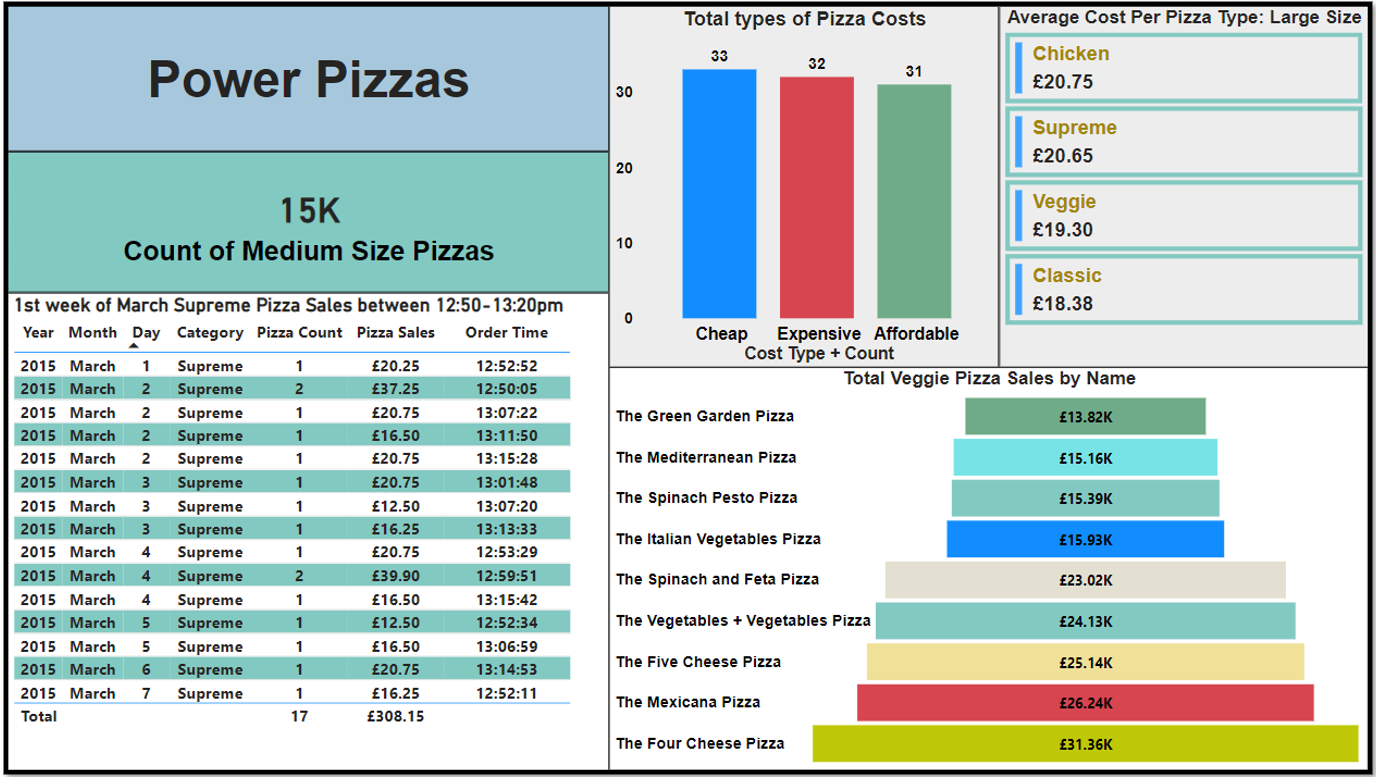

This screenshot's page, from the dashboard's own definition file:
{"tool":"powerbi","page":{"name":"Page 1","canvas":[1280,720],"ordinal":0},"visuals":[{"type":"multiRowCard","title":"Average Cost Per Pizza Type: Large Size","fields":{"Values":["avgLargeSize.category","Sum(avgLargeSize.Avg_Large_Size)"]},"box":[932.9,0,347.1,340],"z":0},{"type":"tableEx","title":"1st week of March Supreme Pizza Sales between 12:50-13:20pm","fields":{"Values":["marchPizzaSum.dateO.Variation.Date Hierarchy.Year","marchPizzaSum.dateO.Variation.Date Hierarchy.Month","marchPizzaSum.dateO.Variation.Date Hierarchy.Day","marchPizzaSum.category","Sum(marchPizzaSum.march_pizzasCo)","Sum(marchPizzaSum.march_pizzasSum)","marchPizzaSum.timeO"]},"box":[0,270,565.7,450],"z":1000},{"type":"card","fields":{"Values":["Sum(mediumSize.Medium_Size)"]},"box":[0,137.1,565.7,132.9],"z":2000},{"type":"clusteredColumnChart","title":"Total types of Pizza Costs ","fields":{"Category":["pizzaByGroup.Cost"],"Y":["Sum(pizzaByGroup.pizza_count)"]},"box":[565.7,0,367.1,340],"z":3000},{"type":"funnel","title":"Total Veggie Pizza Sales by Name","fields":{"Category":["totalVegPizza.name","totalVegPizza.category"],"Y":["Sum(totalVegPizza.Total_Veg_Pizza)"]},"box":[565.7,340,714.3,380],"z":4000},{"type":"textbox","box":[0,0,565.7,137.1],"z":5000}]}

Visuals, with their boxes in screenshot pixels (x1, y1, x2, y2), scaled from the page's 1280x720 canvas onto the 1376x777 screenshot:
"Average Cost Per Pizza Type: Large Size" multiRowCard: <bbox>1003, 0, 1375, 367</bbox>
"1st week of March Supreme Pizza Sales between 12:50-13:20pm" tableEx: <bbox>0, 291, 608, 776</bbox>
card - Sum(mediumSize.Medium_Size): <bbox>0, 148, 608, 291</bbox>
"Total types of Pizza Costs " clusteredColumnChart: <bbox>608, 0, 1003, 367</bbox>
"Total Veggie Pizza Sales by Name" funnel: <bbox>608, 367, 1375, 776</bbox>
textbox: <bbox>0, 0, 608, 148</bbox>
